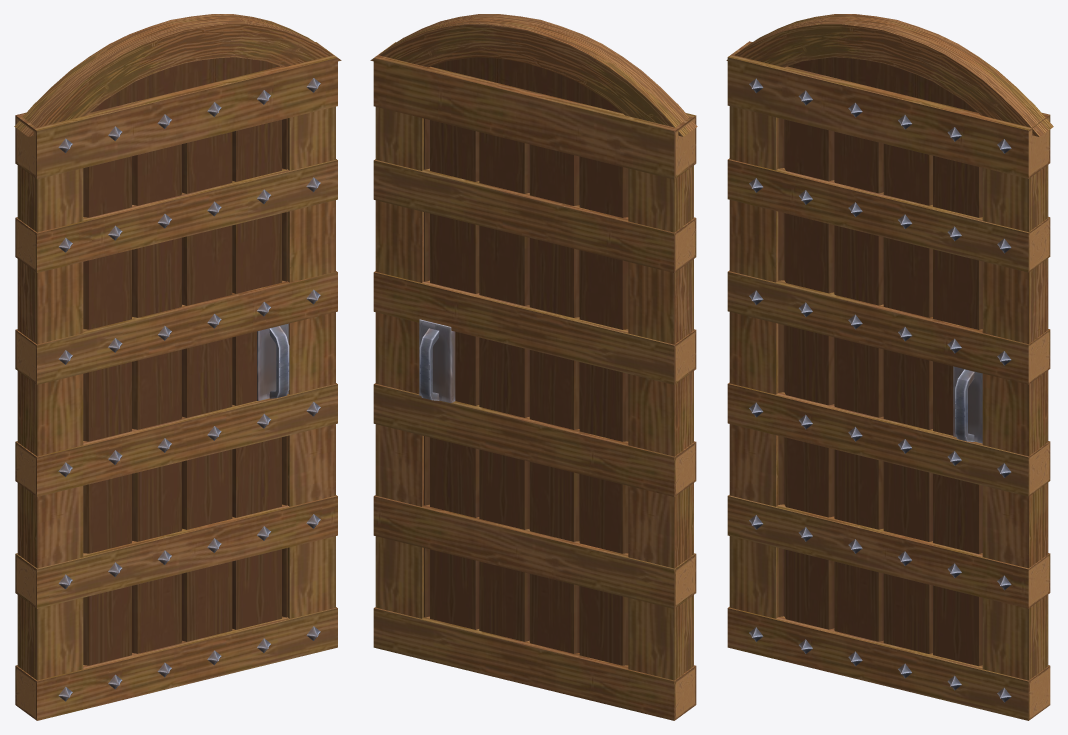
The model's file is Door_3_Round.gltf.
3 renders of one model, left to right at view 1: azimuth 30°, elevation 25°; view 2: azimuth 150°, elevation 25°; view 3: azimuth 330°, elevation 25°, orthographic.
Parts seen in each view (by area): view 1: Door_3_Round; view 2: Door_3_Round; view 3: Door_3_Round.
Part boxes in pixels (<box>): Door_3_Round: <box>14,14,341,720</box>; Door_3_Round: <box>370,14,697,720</box>; Door_3_Round: <box>726,14,1053,720</box>.
Bounding box in the file's own units: 1.17 × 2.32 × 0.253.
2 materials, 2 textured.
